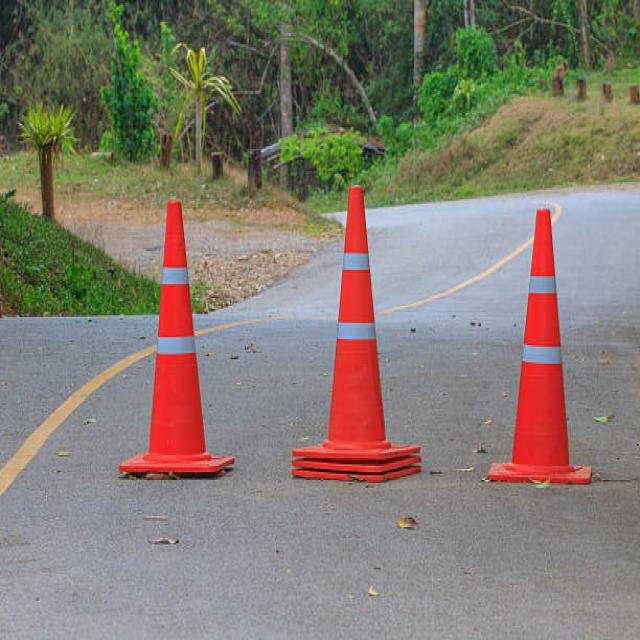Traffic Cone: (284, 144, 434, 503), (102, 164, 248, 509), (474, 183, 611, 505)
